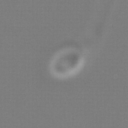normal: (83, 1, 122, 50)
